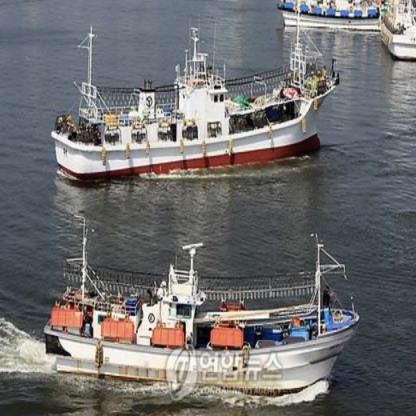fish-b: (37, 212, 369, 409), (48, 25, 350, 184)
